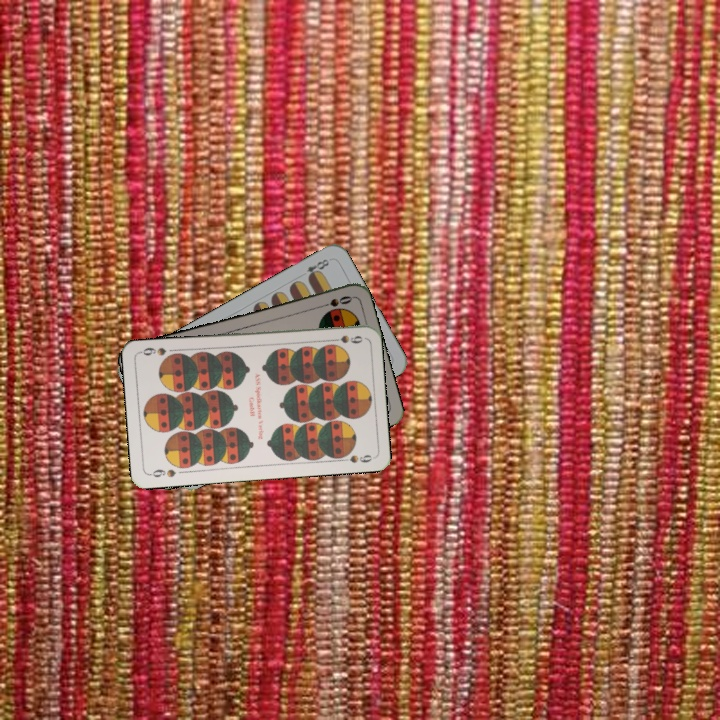E8: (302, 255, 333, 282)
S9: (325, 331, 365, 346), (146, 465, 178, 480)
SO: (315, 292, 355, 311)
